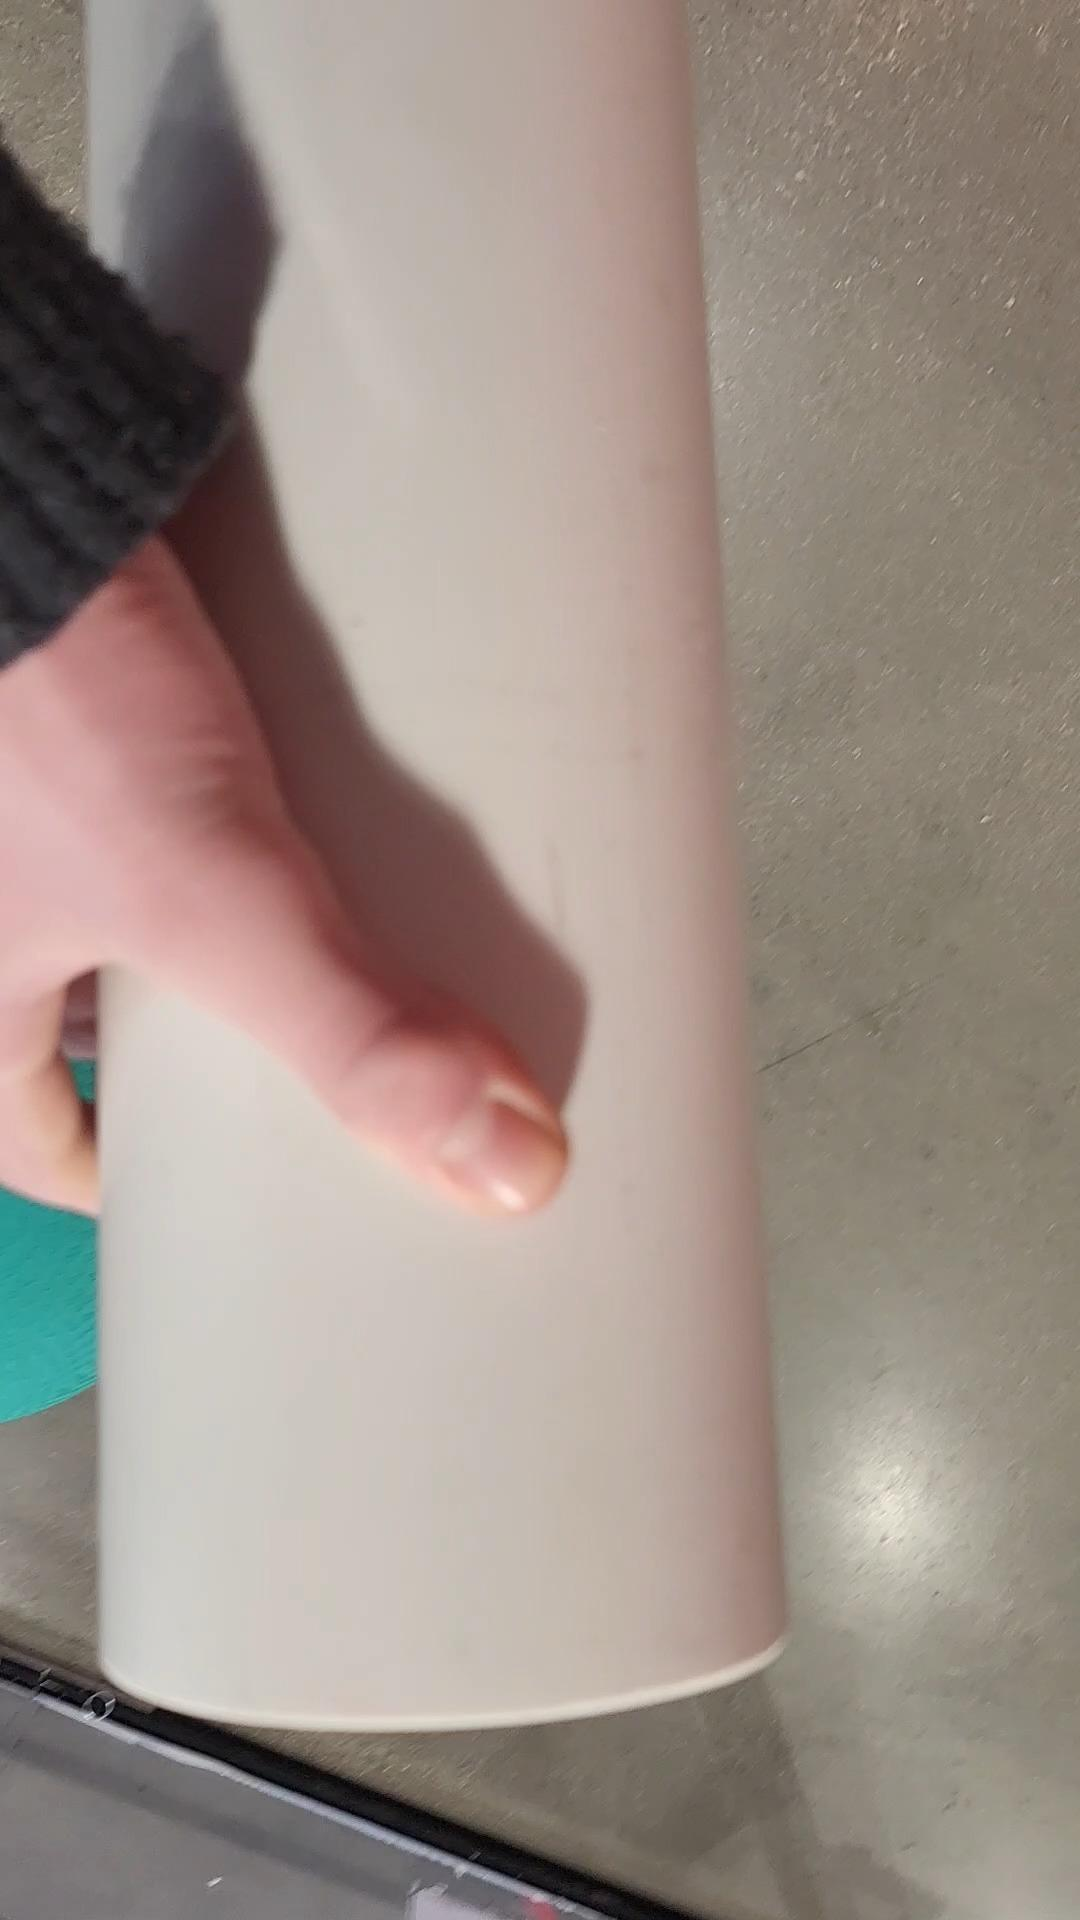algae: (0, 1047, 95, 1407)
coral: (87, 0, 798, 1717)
